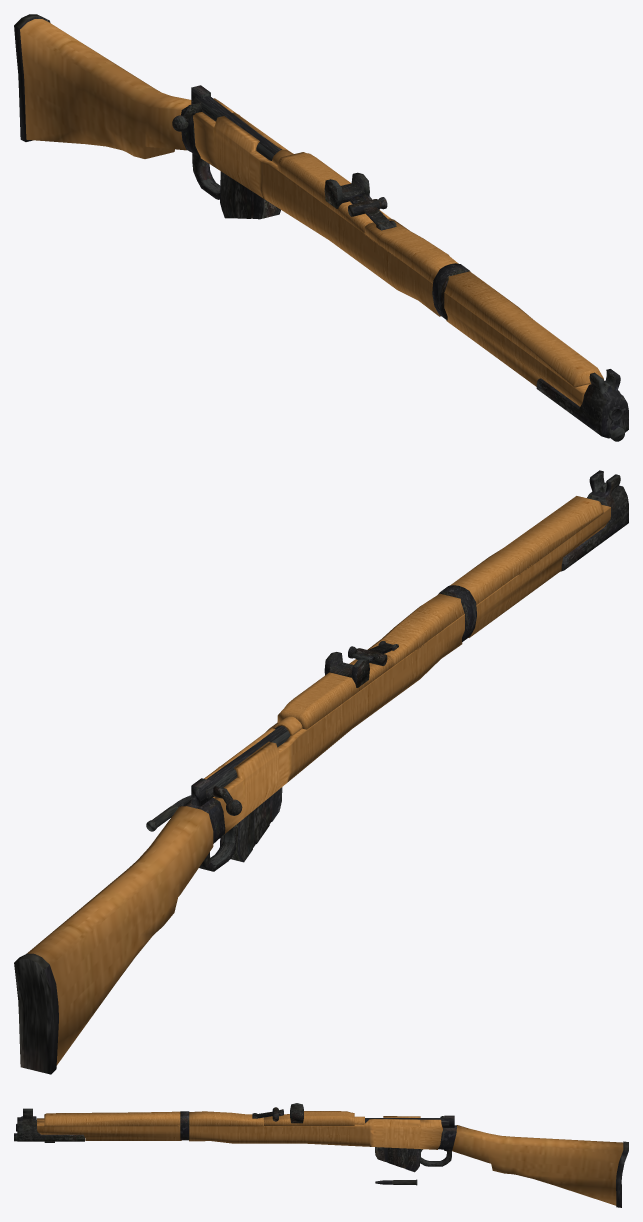
File: Enfield Rifle.fbx
3 views of the same model, one above another, from view 1: azimuth 30°, elevation 25°; view 2: azimuth 150°, elevation 25°; view 3: azimuth 270°, elevation 25° (orthographic). The views are drawn at different scales.
Parts seen in each view (by area): view 1: Cube.001, Cube, Cube.002, Cube.006, Cube.003, Cylinder.002, Cube.010, Cube.007, Cube.008, Cylinder, Cube.005; view 2: Cube.001, Cube, Cube.002, Cube.003, Cube.006, Cylinder.002, Cube.010, Cube.007, Cube.008; view 3: Cube.001, Cube, Cube.002, Cube.003, Cube.006, Cube.010, Cube.007, Cylinder.002, Cube.005, Cube.008, Cylinder, Cylinder.008.
Boxes of the visible parts, <box> form: Cube.001: <box>14,14,191,158</box>; Cube: <box>193,98,604,406</box>; Cube.002: <box>364,218,603,387</box>; Cube.006: <box>536,369,628,441</box>; Cube.003: <box>277,152,390,233</box>; Cylinder.002: <box>172,85,281,160</box>; Cube.010: <box>220,171,280,219</box>; Cube.007: <box>181,106,220,199</box>; Cube.008: <box>324,172,369,208</box>; Cylinder: <box>348,194,394,229</box>; Cube.005: <box>432,263,470,320</box>; Cube.001: <box>14,806,213,1074</box>; Cube: <box>204,504,610,834</box>; Cube.002: <box>367,496,603,665</box>; Cube.003: <box>277,655,393,729</box>; Cube.006: <box>560,470,628,571</box>; Cylinder.002: <box>191,725,290,815</box>; Cube.010: <box>220,787,282,862</box>; Cube.007: <box>184,798,236,871</box>; Cube.008: <box>324,652,369,687</box>; Cube.001: <box>452,1125,628,1207</box>; Cube: <box>37,1116,442,1149</box>; Cube.002: <box>44,1111,263,1126</box>; Cube.003: <box>264,1111,354,1125</box>; Cube.006: <box>14,1108,84,1142</box>; Cube.010: <box>375,1147,419,1172</box>; Cube.007: <box>419,1125,456,1166</box>; Cylinder.002: <box>365,1115,454,1127</box>; Cube.005: <box>180,1111,189,1140</box>; Cube.008: <box>290,1103,303,1123</box>; Cylinder: <box>252,1107,283,1121</box>; Cylinder.008: <box>375,1179,417,1185</box>.
Size of the model in its own units: 388 by 576 by 3309.
